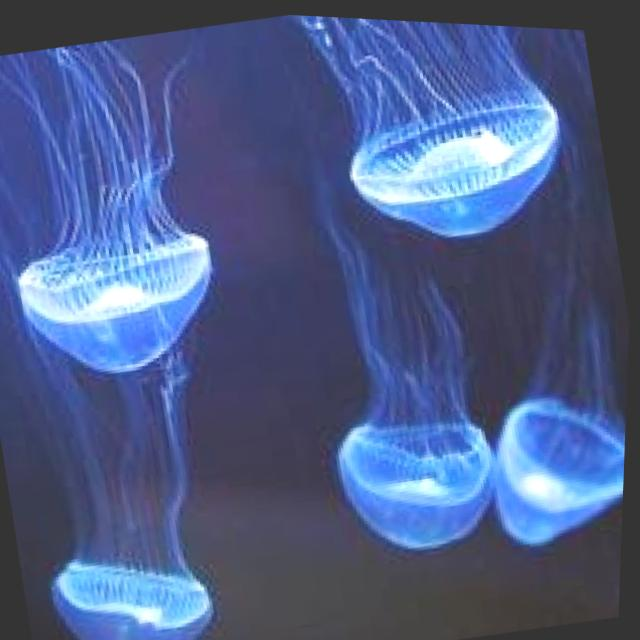Jellyfish: (0, 16, 267, 409), (295, 12, 598, 288), (294, 247, 516, 578), (21, 351, 264, 640), (464, 232, 634, 563)
